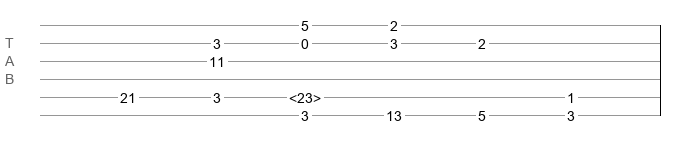0: (301, 36, 309, 46)
1: (567, 90, 575, 100)
11: (209, 54, 225, 64)
13: (386, 108, 402, 118)
2: (390, 18, 398, 28), (478, 36, 486, 46)
21: (120, 90, 136, 100)
3: (213, 36, 221, 46), (213, 90, 221, 100), (301, 108, 309, 118), (390, 36, 398, 46), (567, 108, 575, 118)
5: (301, 18, 309, 28), (478, 108, 486, 118)
harmonic: (289, 90, 321, 100)
